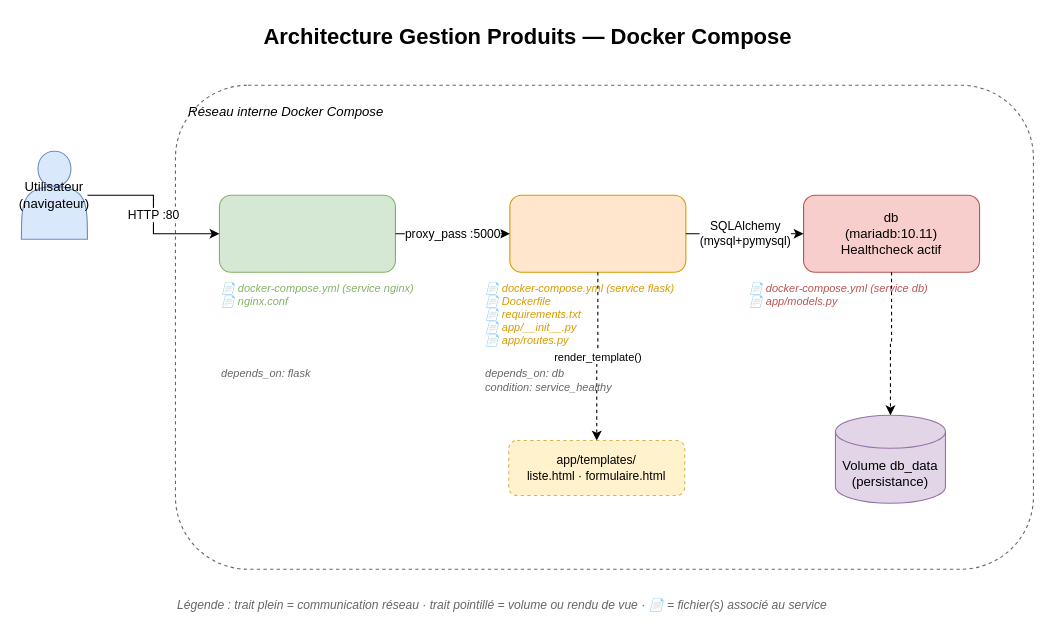
This 1053x631 diagram has some shape labels left out. Each missing label, with the box of its shape:
flask (Gunicorn, build local) Port 5000 interne: (509, 194, 686, 272)
nginx (nginx:alpine) Port 80 exposé: (218, 194, 395, 272)
